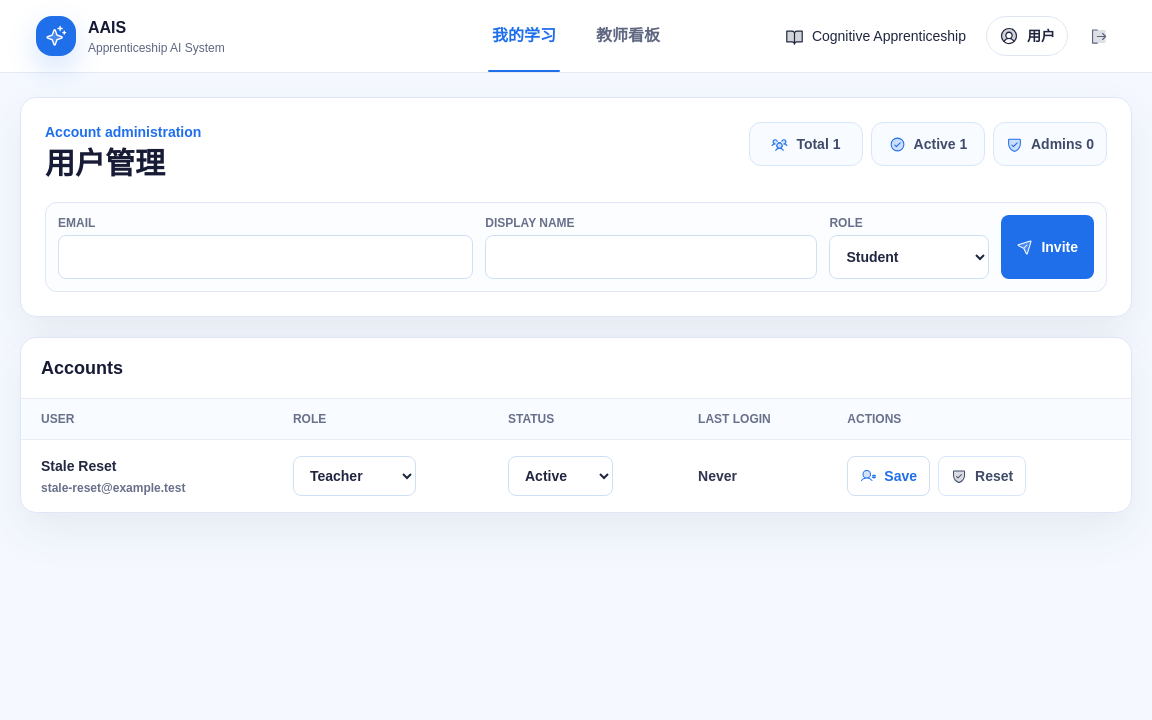
Test case: AdminUsersPage › does not report a stale password-reset target as queued
The image size is (1152, 720).
Expected: the text "stale-reset@example.test" is shown, [41,481,186,495]
Click the button "Reset".
click(982, 476)  # box [938,456,1026,496]
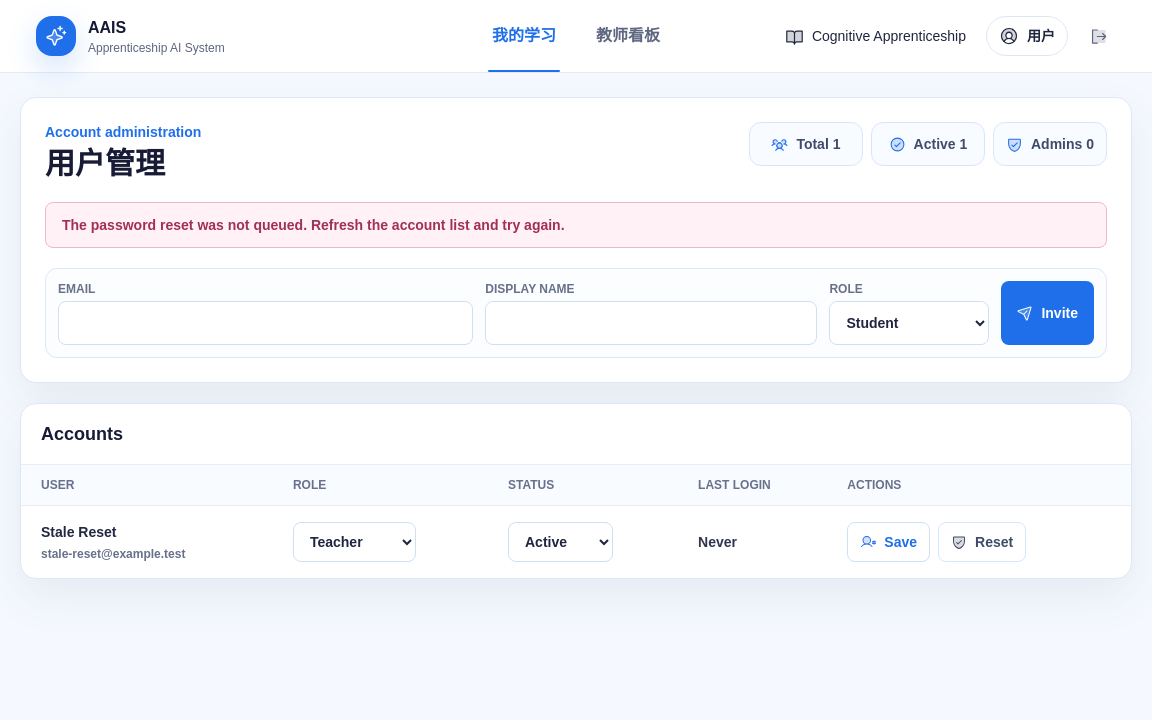
Result: the message reads "The password reset was not queued. Refresh the account list and try again." at [62,217,565,233]
